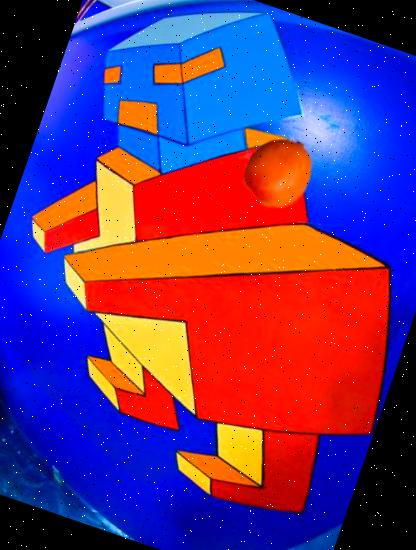Apricot: (233, 127, 324, 218)
